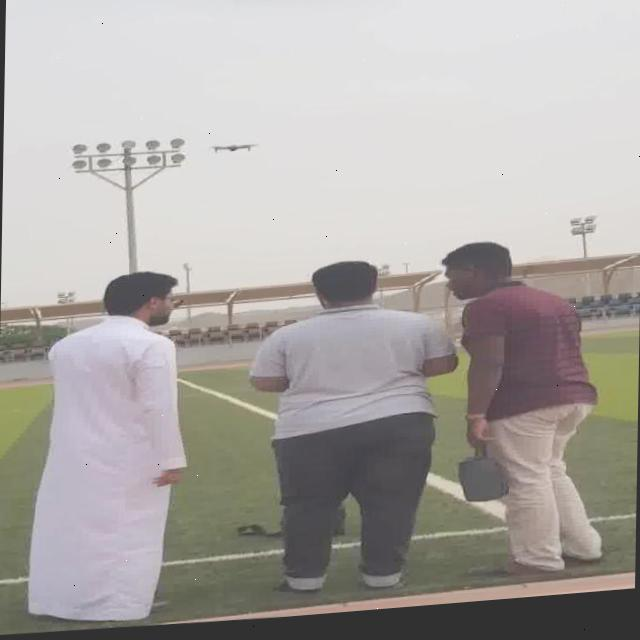drone: (204, 139, 258, 161)
